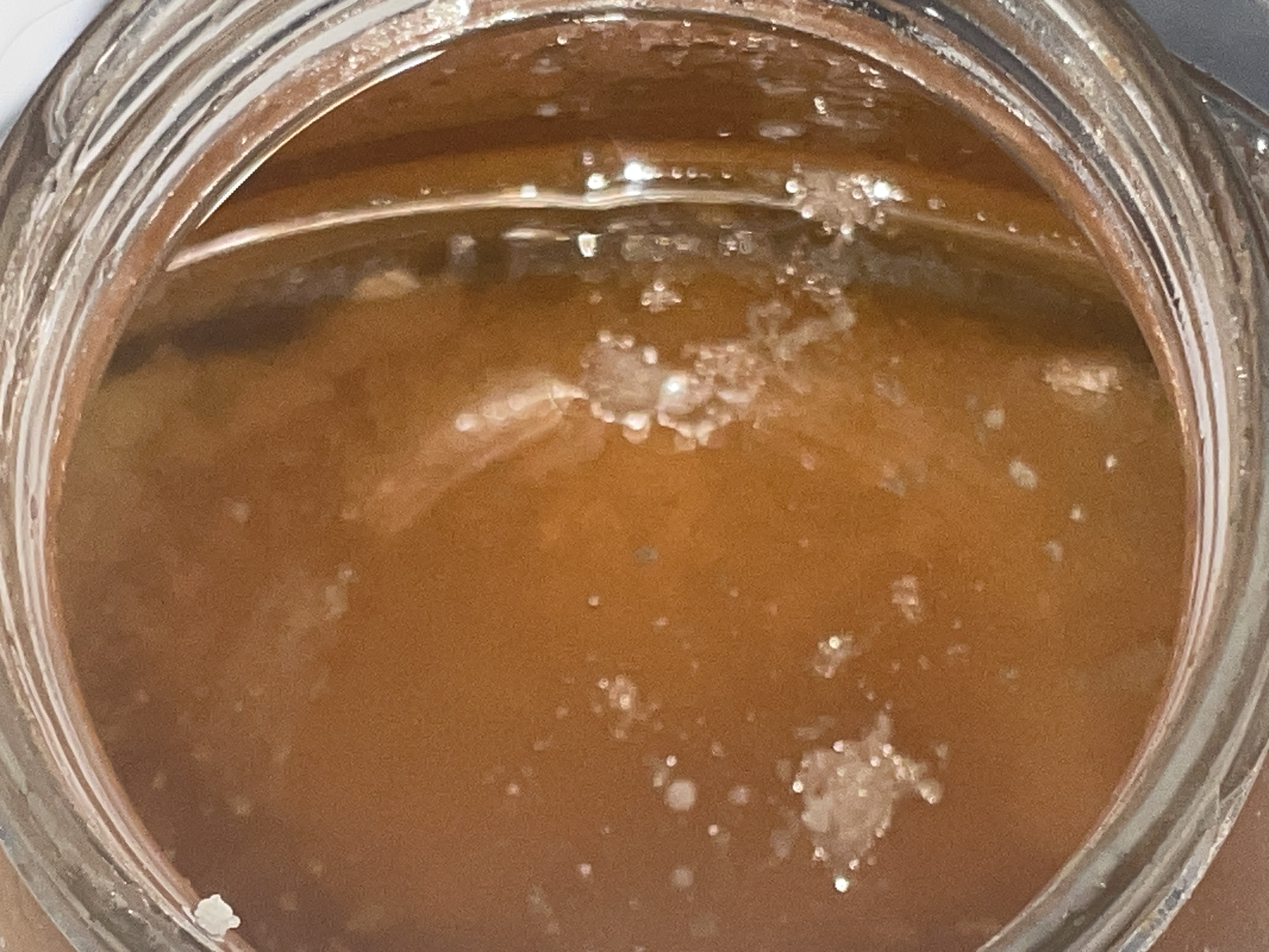non-reusable: (54, 9, 1202, 952)
